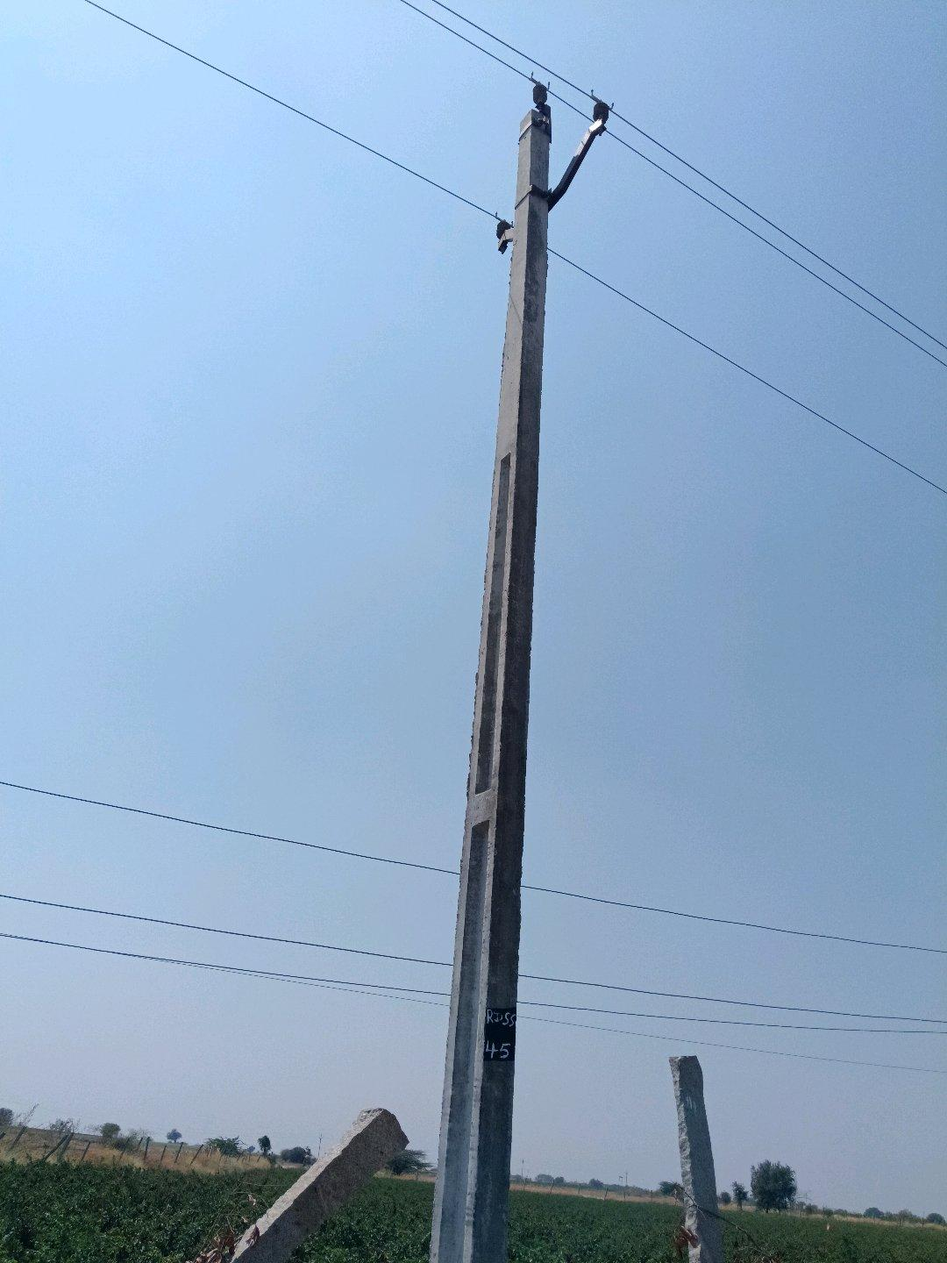{"0" "insulator", "1" "pole", "2" "crossarm", "3" "conductor", "4" "street_: (430, 84, 609, 1262)
